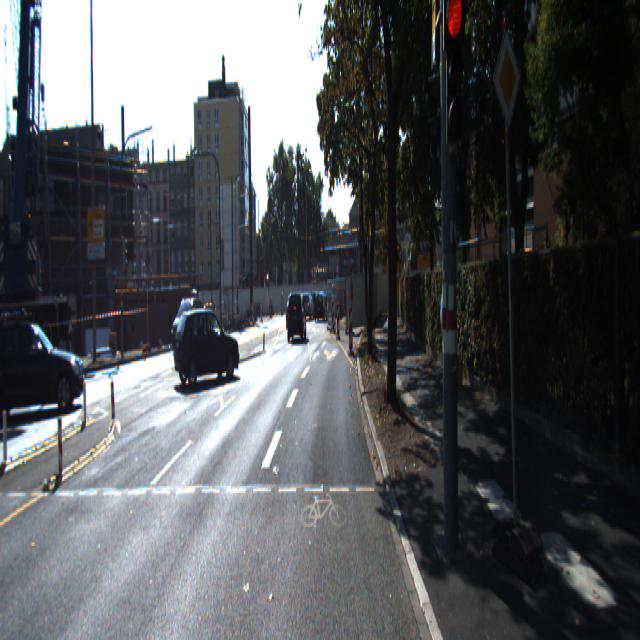Car: (0, 312, 88, 418), (172, 304, 241, 389), (170, 292, 205, 350), (286, 285, 306, 338), (287, 292, 300, 328)
